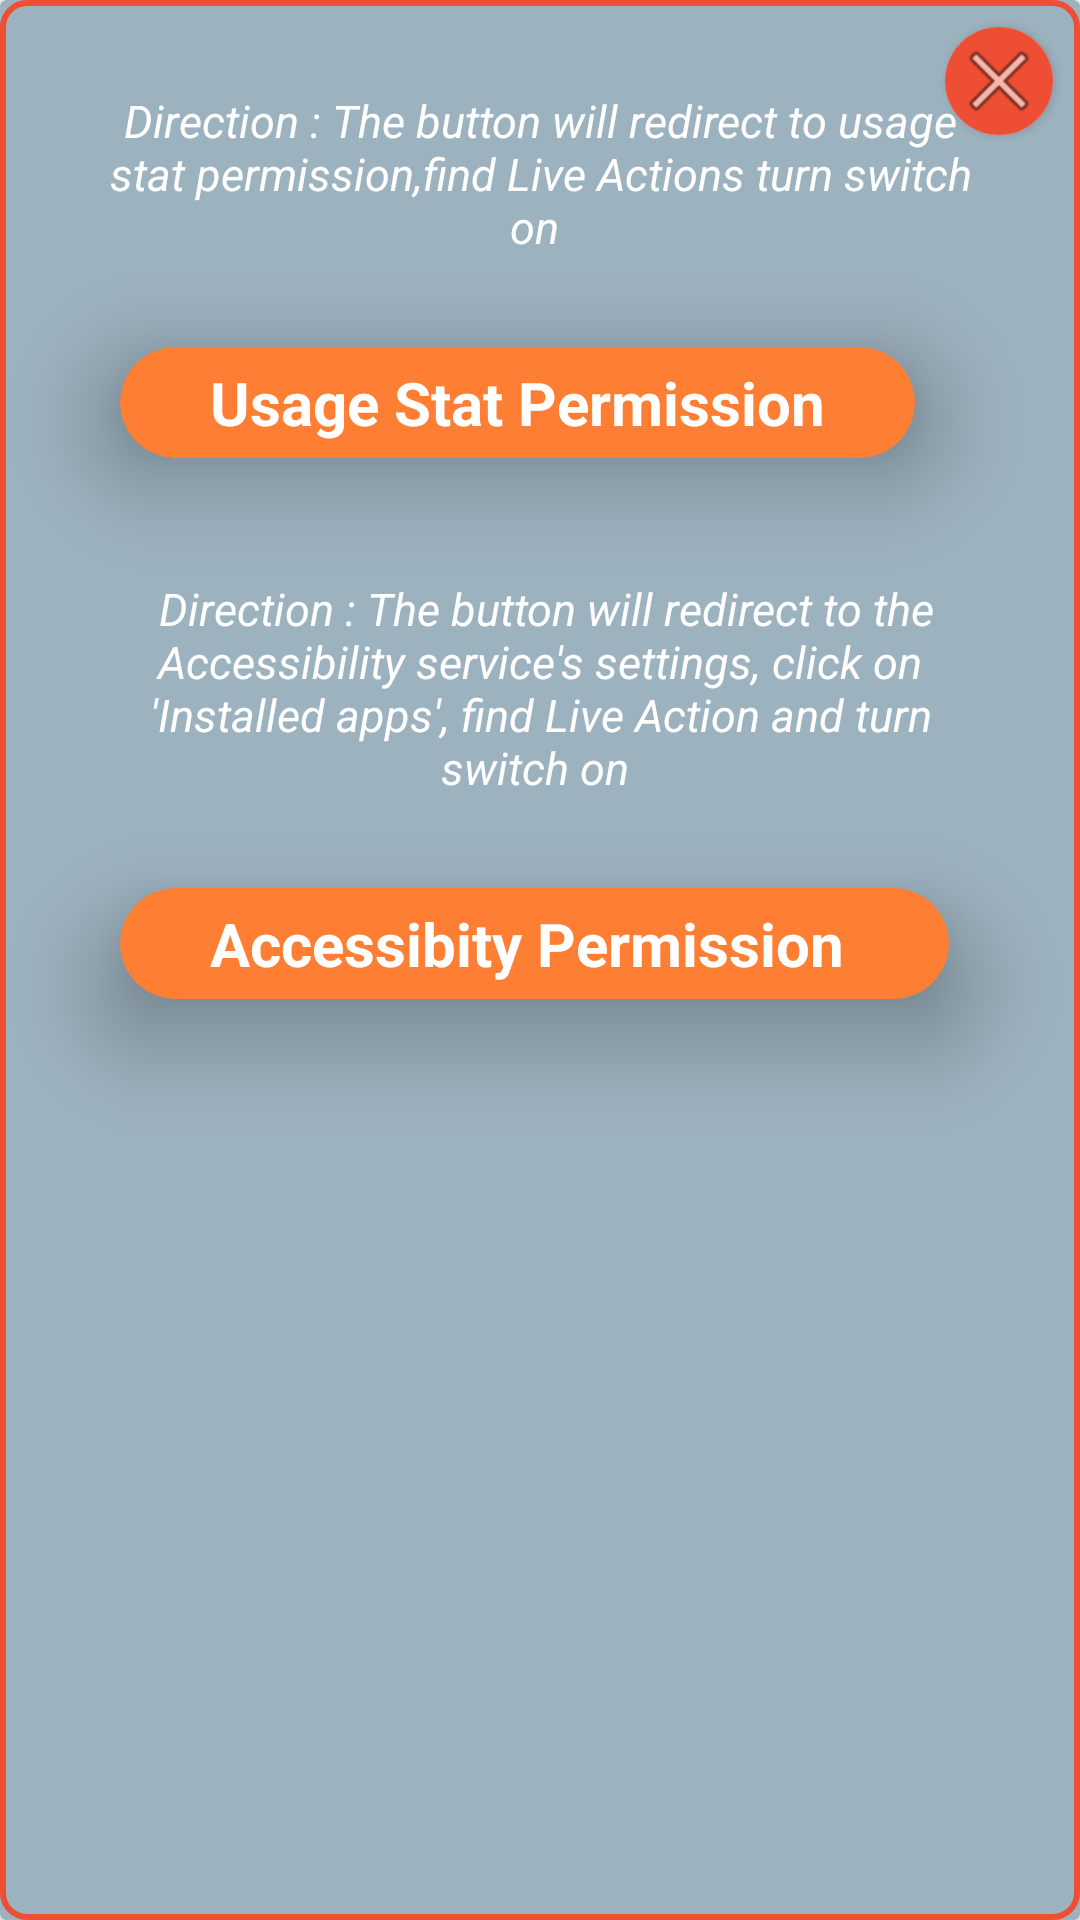

Icons on this 1080x1920 Android screen, each with the point to tap as point (x, y):
close clear cancel: point (999, 81)
